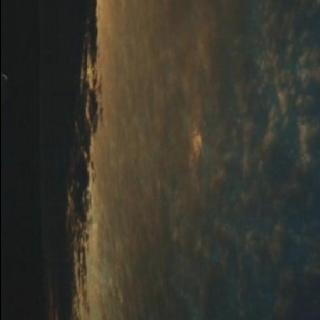Stratocumulus: (47, 0, 320, 320)
